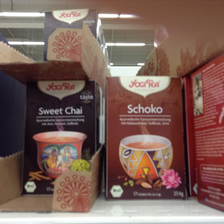tea: (105, 76, 189, 200), (23, 80, 99, 195)
